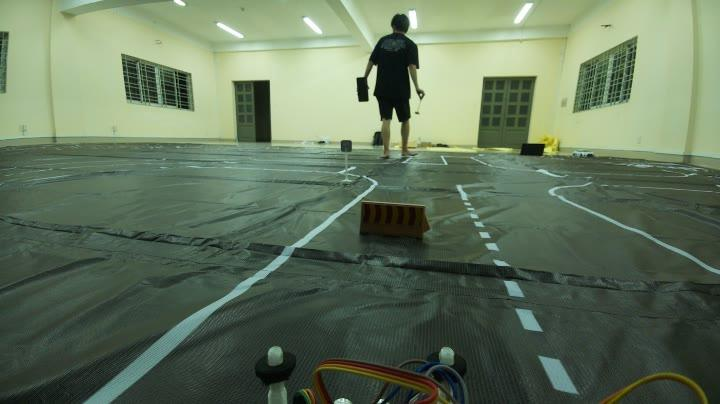roadblock: (354, 194, 438, 249)
